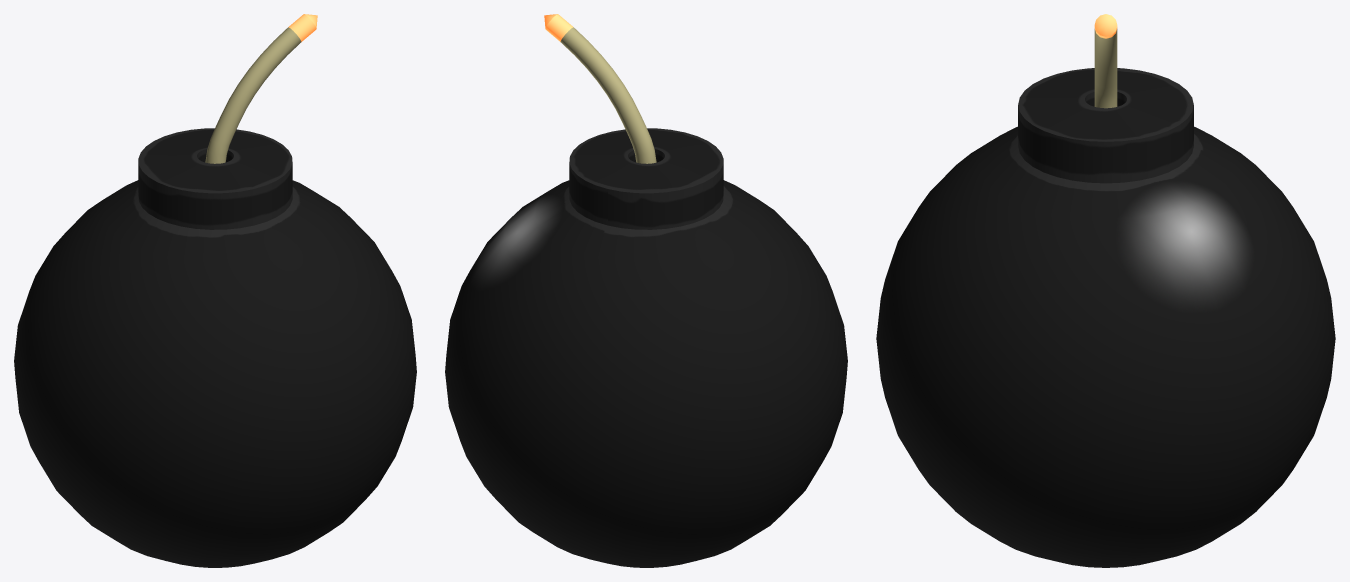
Rendered from BombFBX.FBX.
3 views of the same model, side by side, from view 1: azimuth 30°, elevation 25°; view 2: azimuth 150°, elevation 25°; view 3: azimuth 270°, elevation 25° (orthographic). The views are drawn at different scales.
Visible parts, largest first — view 1: Sphere001; view 2: Sphere001; view 3: Sphere001.
Boxes of the visible parts, x1,y1,x2,y2 form: Sphere001: [14, 14, 416, 567]; Sphere001: [445, 14, 847, 567]; Sphere001: [876, 14, 1335, 567].
Bounding box in the file's own units: 20 × 28 × 20.
